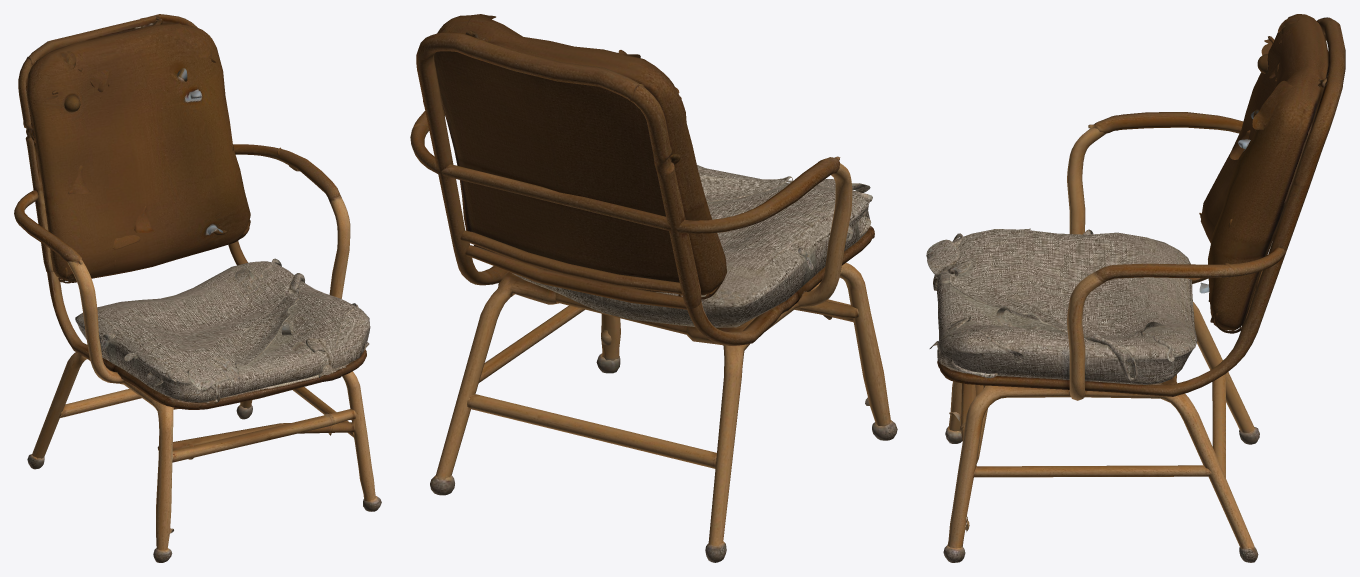
Rendered from lounger.glb.
3 renders of one model, left to right at view 1: azimuth 30°, elevation 25°; view 2: azimuth 150°, elevation 25°; view 3: azimuth 270°, elevation 25°, orthographic. The views are drawn at different scales.
Parts seen in each view (by area): view 1: lounger / mesh; view 2: lounger / mesh; view 3: lounger / mesh.
Part boxes in pixels (x1,y1,x2,y2): lounger / mesh: (14,14,381,562); lounger / mesh: (410,14,897,562); lounger / mesh: (926,14,1345,562).
Size of the model in its own units: 0.8453 by 1.12 by 0.9405.
1 material, 1 textured.
